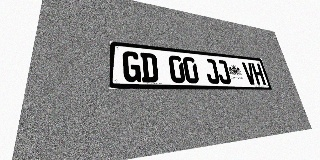0: (168, 55, 186, 83), (182, 56, 199, 83)
D: (140, 52, 159, 83)
G: (122, 51, 141, 82)
H: (251, 63, 266, 85)
J: (203, 58, 220, 84), (215, 59, 232, 84)
V: (242, 62, 257, 85)
